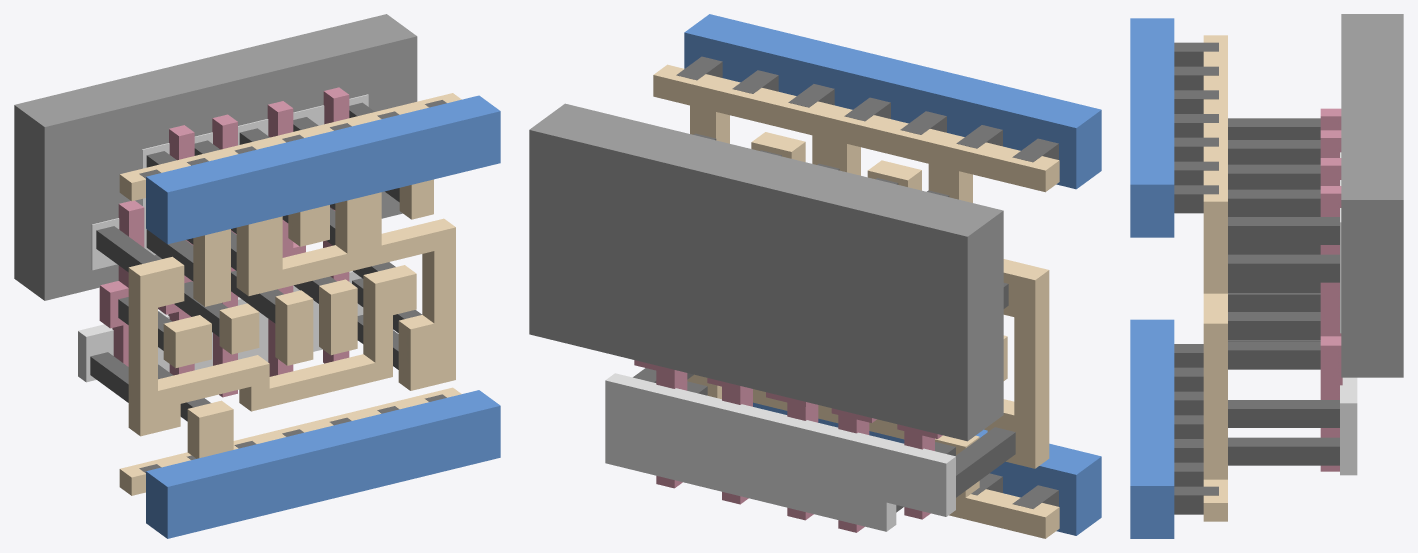
File: sky130_fd_sc_hd__nand4b_1.gds.gltf
3 views of the same model, side by side, from view 1: azimuth 30°, elevation 25°; view 2: azimuth 150°, elevation 25°; view 3: azimuth 270°, elevation 25° (orthographic). The views are drawn at different scales.
Visible parts, largest first — view 1: sky130_fd_sc_hd__nand4b_1_li1, sky130_fd_sc_hd__nand4b_1_met1, sky130_fd_sc_hd__nand4b_1_nwell, sky130_fd_sc_hd__nand4b_1_licon, sky130_fd_sc_hd__nand4b_1_poly, sky130_fd_sc_hd__nand4b_1_diff, sky130_fd_sc_hd__nand4b_1_mcon; view 2: sky130_fd_sc_hd__nand4b_1_nwell, sky130_fd_sc_hd__nand4b_1_li1, sky130_fd_sc_hd__nand4b_1_diff, sky130_fd_sc_hd__nand4b_1_met1, sky130_fd_sc_hd__nand4b_1_mcon, sky130_fd_sc_hd__nand4b_1_poly, sky130_fd_sc_hd__nand4b_1_licon; view 3: sky130_fd_sc_hd__nand4b_1_licon, sky130_fd_sc_hd__nand4b_1_nwell, sky130_fd_sc_hd__nand4b_1_met1, sky130_fd_sc_hd__nand4b_1_mcon, sky130_fd_sc_hd__nand4b_1_li1, sky130_fd_sc_hd__nand4b_1_poly, sky130_fd_sc_hd__nand4b_1_diff.
Boxes of the visible parts, left/top/right/bottom form: sky130_fd_sc_hd__nand4b_1_li1: left=119, top=93, right=461, bottom=495; sky130_fd_sc_hd__nand4b_1_met1: left=146, top=95, right=500, bottom=538; sky130_fd_sc_hd__nand4b_1_nwell: left=14, top=14, right=417, bottom=300; sky130_fd_sc_hd__nand4b_1_licon: left=90, top=102, right=421, bottom=421; sky130_fd_sc_hd__nand4b_1_poly: left=99, top=87, right=349, bottom=397; sky130_fd_sc_hd__nand4b_1_diff: left=78, top=94, right=368, bottom=382; sky130_fd_sc_hd__nand4b_1_mcon: left=139, top=100, right=446, bottom=472; sky130_fd_sc_hd__nand4b_1_nwell: left=529, top=103, right=1003, bottom=441; sky130_fd_sc_hd__nand4b_1_li1: left=653, top=64, right=1059, bottom=538; sky130_fd_sc_hd__nand4b_1_diff: left=605, top=373, right=955, bottom=531; sky130_fd_sc_hd__nand4b_1_met1: left=684, top=14, right=1101, bottom=535; sky130_fd_sc_hd__nand4b_1_mcon: left=676, top=56, right=1058, bottom=508; sky130_fd_sc_hd__nand4b_1_poly: left=634, top=360, right=942, bottom=532; sky130_fd_sc_hd__nand4b_1_licon: left=633, top=133, right=1015, bottom=512; sky130_fd_sc_hd__nand4b_1_licon: left=1228, top=118, right=1339, bottom=465; sky130_fd_sc_hd__nand4b_1_nwell: left=1341, top=14, right=1403, bottom=377; sky130_fd_sc_hd__nand4b_1_met1: left=1130, top=18, right=1174, bottom=538; sky130_fd_sc_hd__nand4b_1_mcon: left=1174, top=42, right=1218, bottom=514; sky130_fd_sc_hd__nand4b_1_li1: left=1203, top=35, right=1227, bottom=521; sky130_fd_sc_hd__nand4b_1_poly: left=1320, top=108, right=1342, bottom=471; sky130_fd_sc_hd__nand4b_1_diff: left=1340, top=152, right=1357, bottom=475.
Bounding box in the file's own units: 3.6 × 3.2 × 2.24.
